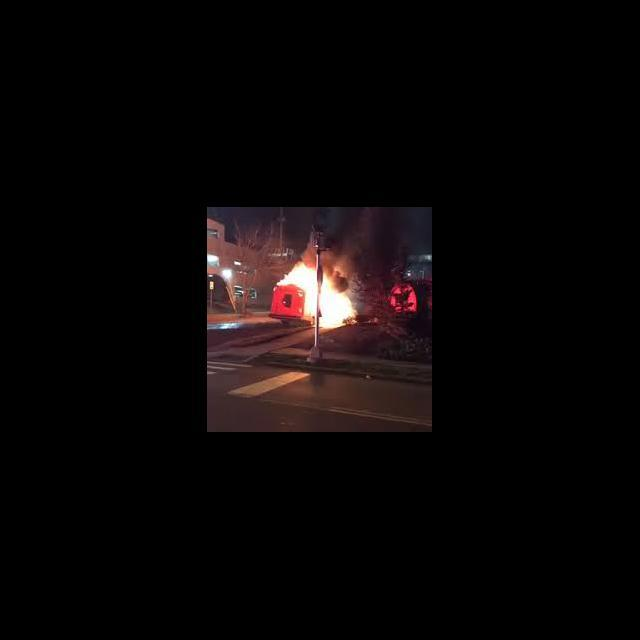Fire: (280, 262, 356, 328)
